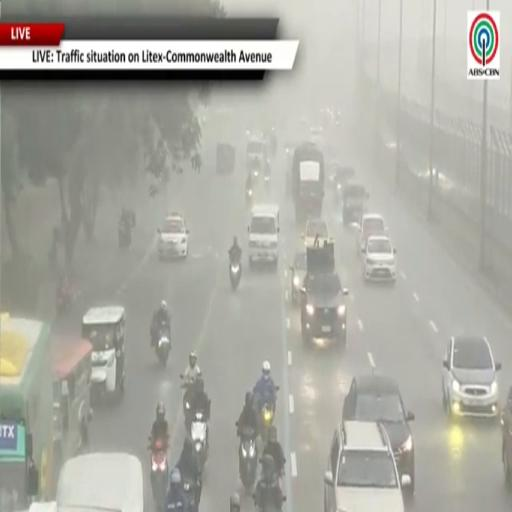bus: (0, 314, 53, 510)
car: (342, 374, 414, 492), (324, 422, 410, 511), (301, 243, 348, 348), (442, 335, 501, 418), (248, 204, 279, 268), (362, 236, 396, 282), (337, 182, 369, 226), (158, 214, 188, 260), (357, 214, 387, 254), (501, 387, 511, 488), (247, 133, 266, 178), (291, 251, 306, 303), (303, 219, 330, 246), (310, 126, 324, 146)
jeepney: (53, 338, 92, 467), (82, 307, 125, 405)
motorcycle: (149, 437, 169, 511), (239, 427, 258, 490), (191, 411, 208, 474), (155, 323, 170, 366), (261, 399, 275, 443), (183, 475, 200, 511), (181, 382, 193, 429), (253, 494, 286, 511), (57, 290, 73, 314), (230, 262, 241, 291), (119, 222, 131, 248), (246, 188, 253, 206), (264, 174, 270, 188)
truck: (292, 142, 324, 222)
